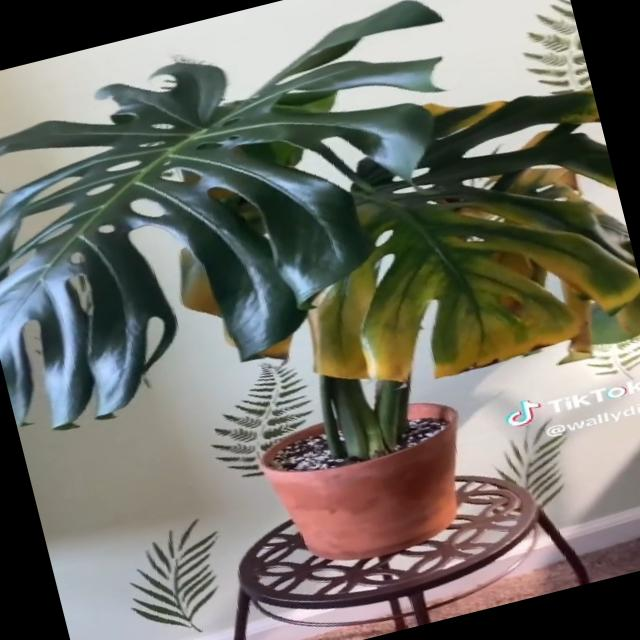lisc_przelany: (302, 87, 640, 382), (179, 246, 294, 360)
roslina_przelana: (0, 0, 640, 461)
